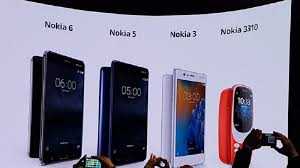nokia: (39, 48, 87, 167)
